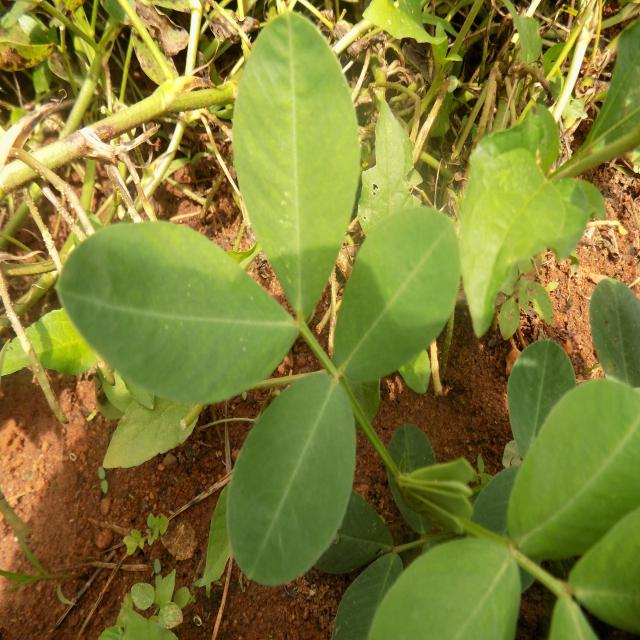Ground nut_healthy: (55, 215, 295, 408), (229, 9, 360, 328), (225, 367, 356, 586), (328, 201, 469, 385)
